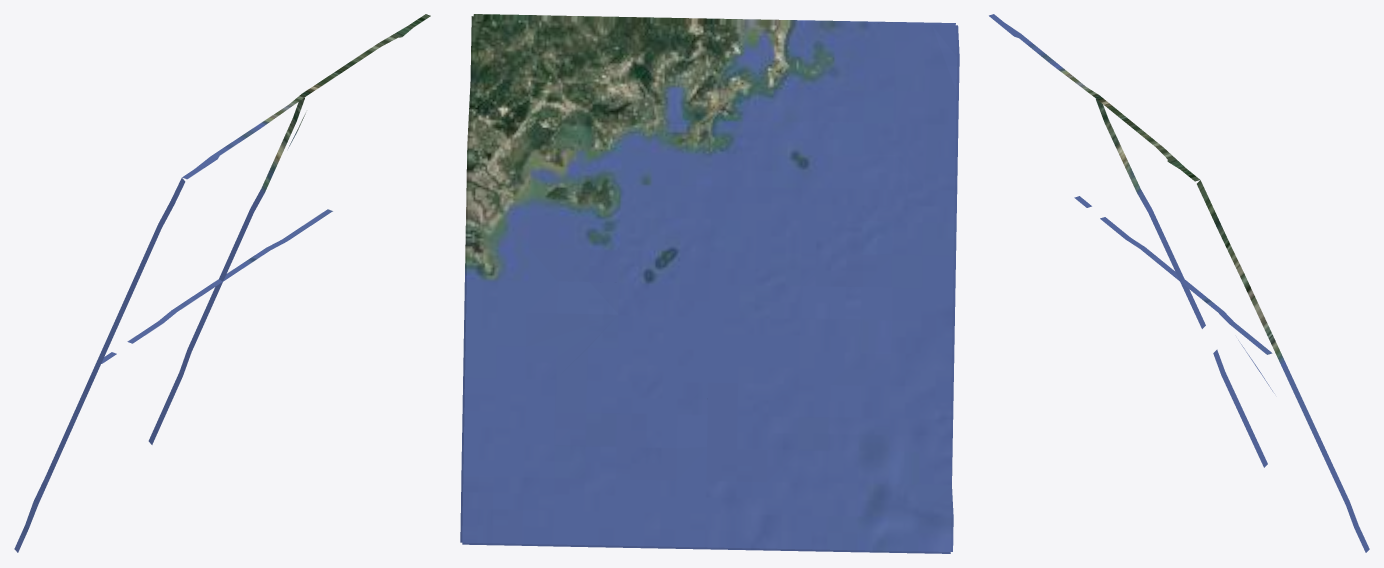
The picture shows the model from 3 angles, left to right: view 1: azimuth 30°, elevation 25°; view 2: azimuth 150°, elevation 25°; view 3: azimuth 270°, elevation 25°; orthographic projection. The views are drawn at different scales.
Size of the model in its own units: 157843 by 145670 by 122873.
Materials: 1 (1 with a texture image).
